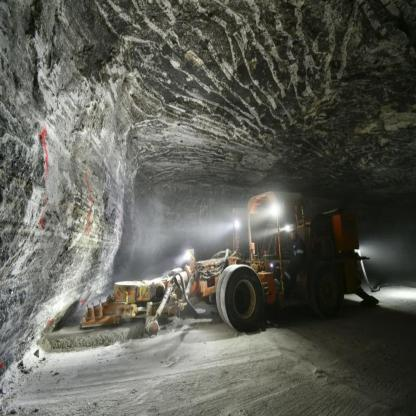bull_dozer/loader/grader: (91, 155, 376, 339)
